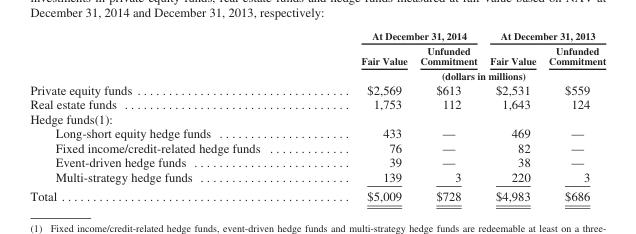table: (29, 29, 605, 203)
table column: (29, 29, 310, 203), (310, 29, 413, 203), (413, 29, 482, 203), (541, 29, 605, 203), (482, 29, 541, 203)
table column header: (29, 29, 605, 81)
table projected row header: (29, 111, 605, 125)
table row: (29, 42, 605, 67), (29, 169, 605, 186), (29, 186, 605, 203), (29, 81, 605, 96), (29, 96, 605, 111), (29, 125, 605, 140), (29, 154, 605, 169), (29, 67, 605, 81), (29, 111, 605, 125), (29, 140, 605, 154), (29, 29, 605, 42)
table spanning cell: (310, 67, 605, 81), (310, 29, 482, 42), (482, 29, 605, 42)
